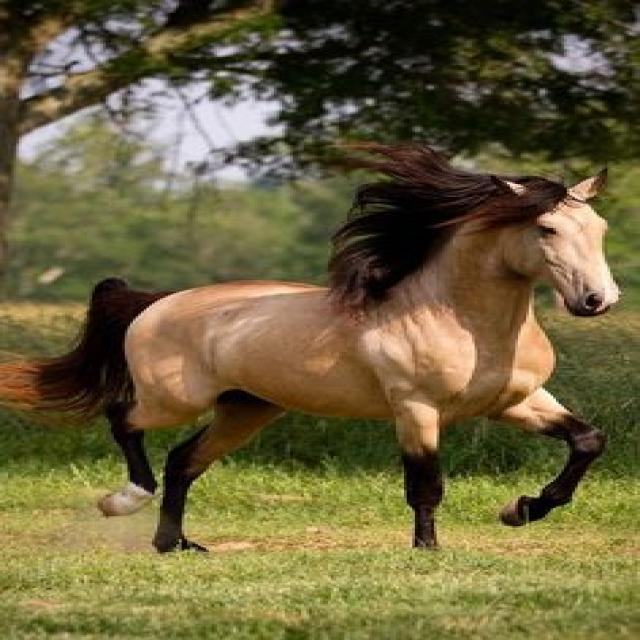Herbivorous: (0, 153, 618, 554)
